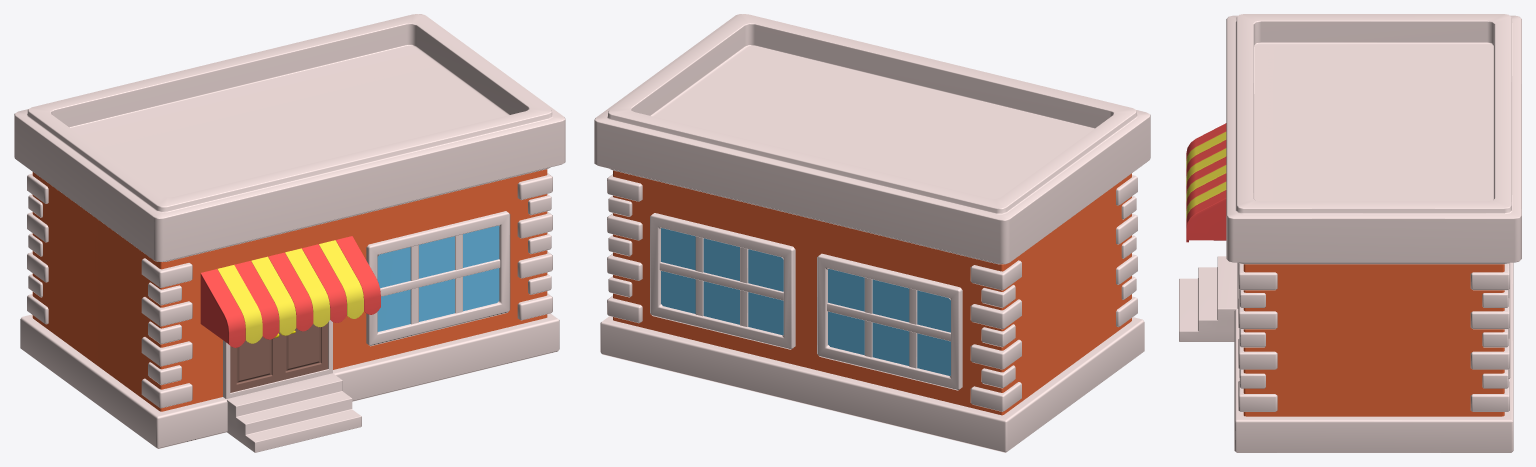
File: Public_19_Tailors_Workshop_1.glb
3 views of the same model, side by side, from view 1: azimuth 30°, elevation 25°; view 2: azimuth 150°, elevation 25°; view 3: azimuth 270°, elevation 25° (orthographic).
Visible parts, largest first — view 1: Public_19_Tailors_Workshop_1; view 2: Public_19_Tailors_Workshop_1; view 3: Public_19_Tailors_Workshop_1.
Boxes of the visible parts, bbox=[...] form: Public_19_Tailors_Workshop_1: bbox=[14, 14, 565, 452]; Public_19_Tailors_Workshop_1: bbox=[594, 14, 1150, 452]; Public_19_Tailors_Workshop_1: bbox=[1179, 14, 1521, 452].
Bounding box in the file's own units: 9.55 × 5.34 × 6.81.
Materials: 1 (1 with a texture image).
